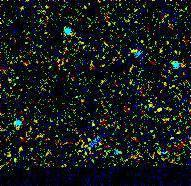star: (145, 93, 175, 123)
